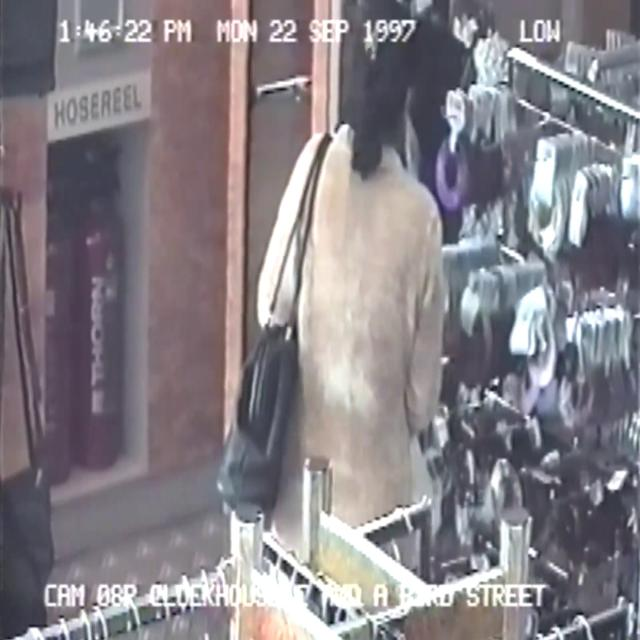normal: (210, 6, 465, 640)
